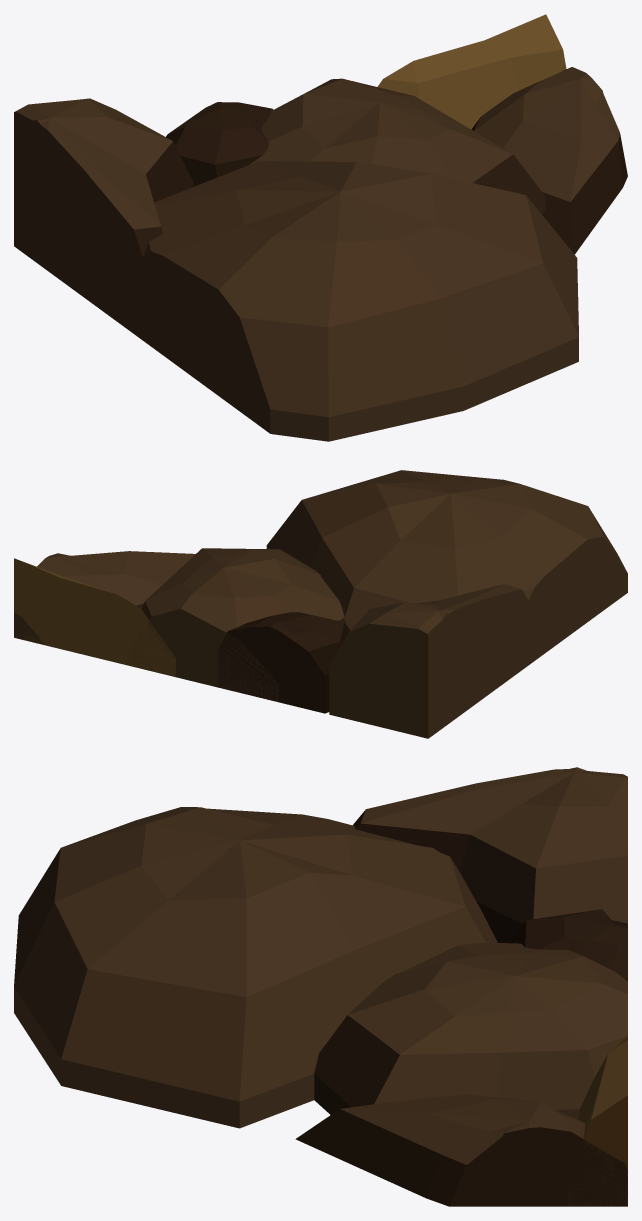
File: newshr-277.glb
3 views of the same model, one above another, from view 1: azimuth 30°, elevation 25°; view 2: azimuth 150°, elevation 25°; view 3: azimuth 270°, elevation 25° (orthographic). The views are drawn at different scales.
Parts seen in each view (by area): view 1: newshr-277; view 2: newshr-277; view 3: newshr-277.
Part boxes in pixels (left/top/right/bottom): newshr-277: left=14, top=14, right=627, bottom=441; newshr-277: left=14, top=470, right=627, bottom=738; newshr-277: left=14, top=767, right=627, bottom=1206.
Size of the model in its own units: 2 by 0.533 by 1.83.
